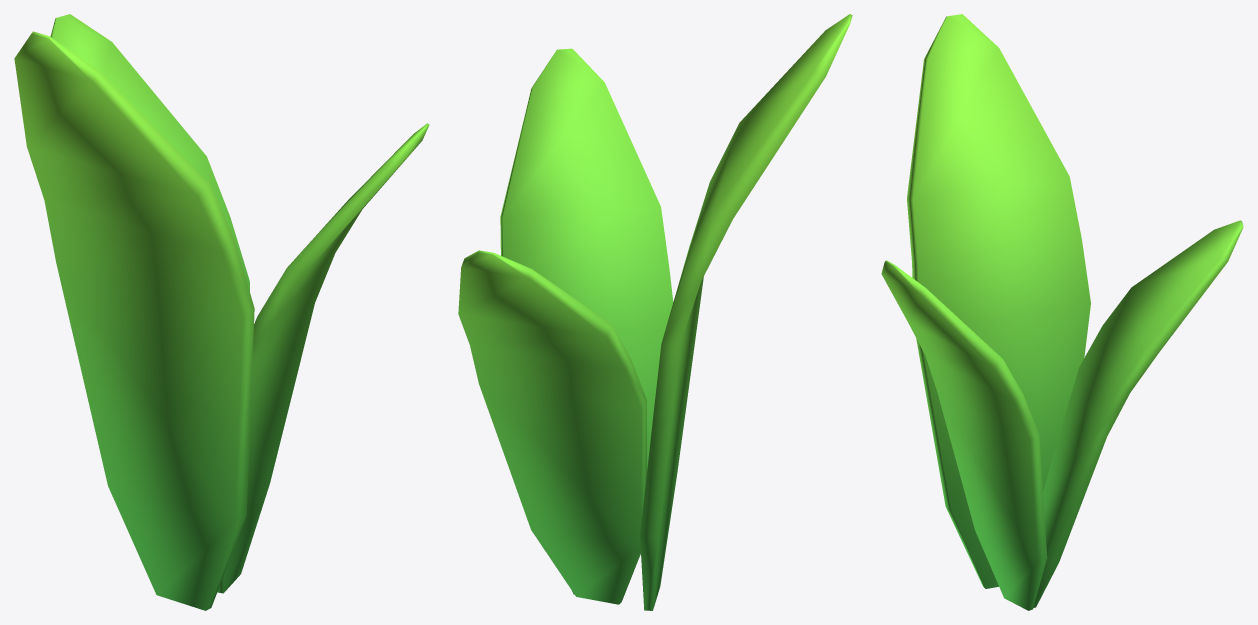
Rendered from Grass_C.fbx.
3 views of the same model, side by side, from view 1: azimuth 30°, elevation 25°; view 2: azimuth 150°, elevation 25°; view 3: azimuth 270°, elevation 25° (orthographic). The views are drawn at different scales.
Parts seen in each view (by area): view 1: Grass_C; view 2: Grass_C; view 3: Grass_C.
Part boxes in pixels (left/top/right/bottom): Grass_C: left=14, top=14, right=429, bottom=610; Grass_C: left=458, top=14, right=852, bottom=610; Grass_C: left=881, top=14, right=1243, bottom=610.
Size of the model in its own units: 45.14 by 75.06 by 49.16.
